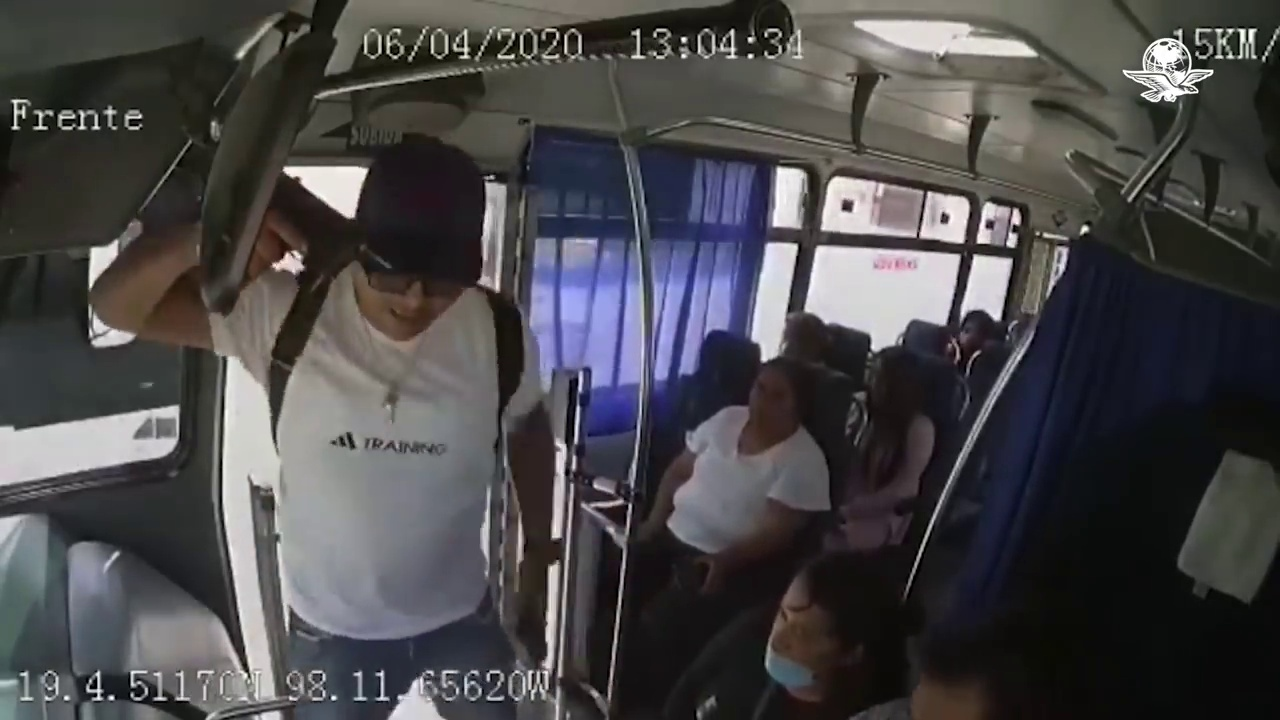pistol: (266, 168, 403, 300)
